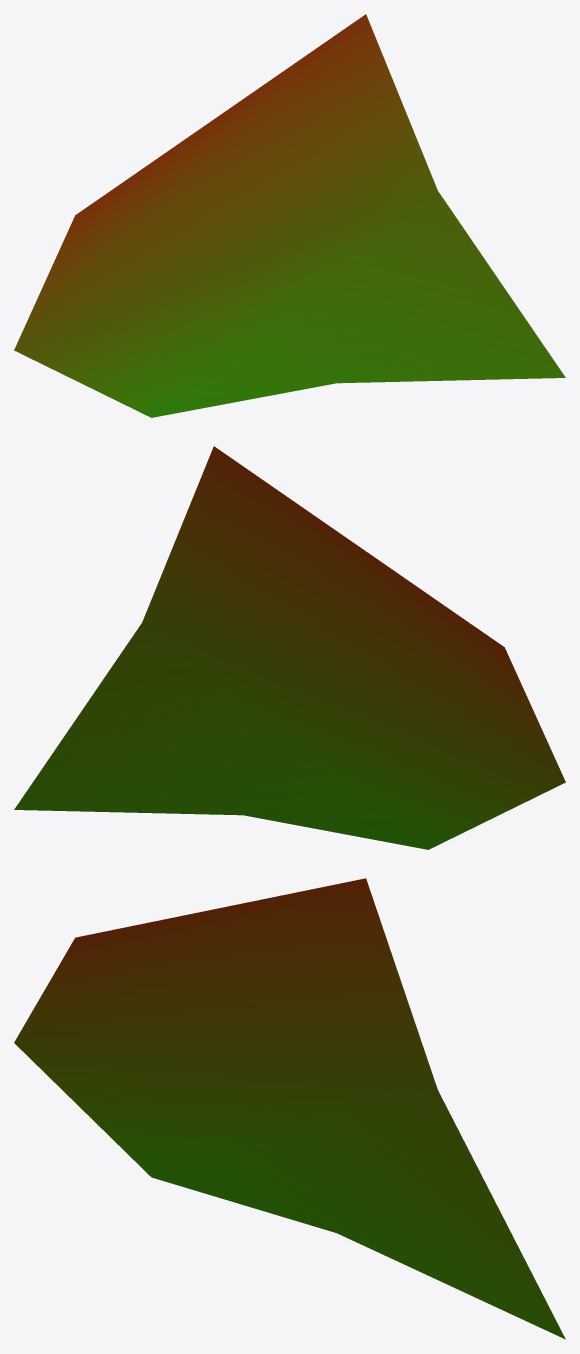
Rendered from Fern_LOD3_Var4_sbslY.fbx.
The picture shows the model from 3 angles, top to bottom: view 1: azimuth 30°, elevation 25°; view 2: azimuth 150°, elevation 25°; view 3: azimuth 330°, elevation 25°; orthographic projection.
Visible parts, largest first — view 1: _e1bd_Var4_LOD3; view 2: _e1bd_Var4_LOD3; view 3: _e1bd_Var4_LOD3.
Part boxes in pixels (box(x1,y1,x2,y2)): _e1bd_Var4_LOD3: box(14, 14, 565, 417); _e1bd_Var4_LOD3: box(14, 446, 565, 849); _e1bd_Var4_LOD3: box(14, 878, 565, 1339).
Bounding box in the file's own units: 146 × 104 × 1.53e-05.
